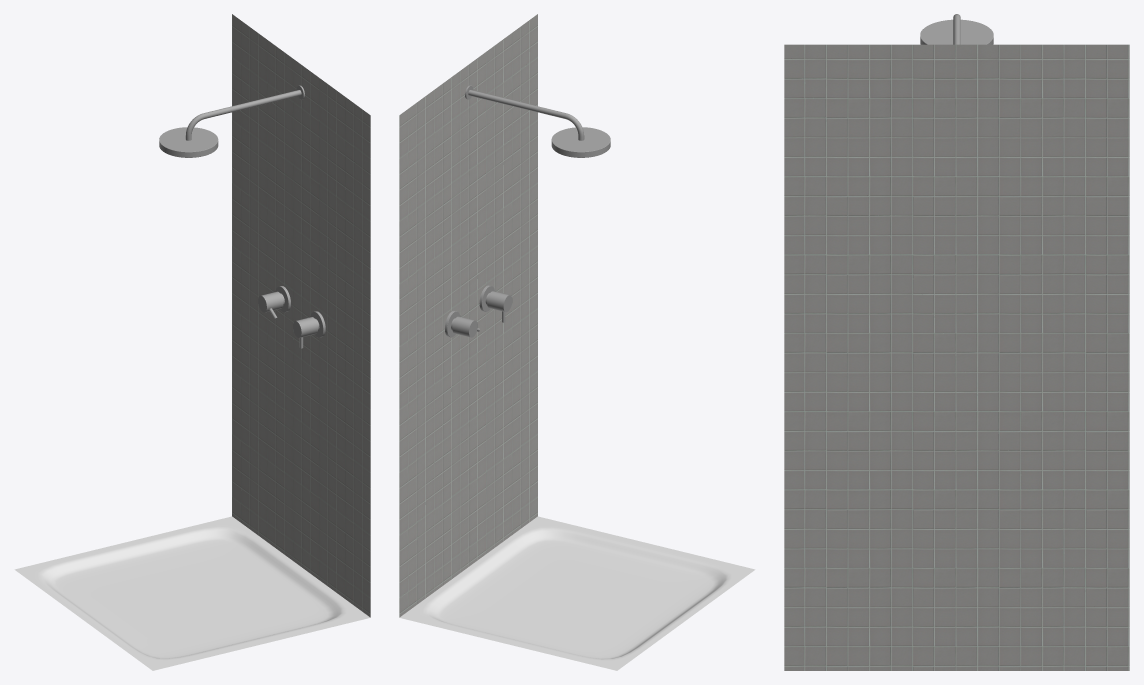
File: Shower.fbx
3 renders of one model, left to right at view 1: azimuth 30°, elevation 25°; view 2: azimuth 150°, elevation 25°; view 3: azimuth 270°, elevation 25°, orthographic. The views are drawn at different scales.
Visible parts, largest first — view 1: Shower, Shower_Base, Shower_Head; view 2: Shower, Shower_Base, Shower_Head; view 3: Shower, Shower_Head.
Boxes of the visible parts, left/top/right/bottom form: Shower: left=232, top=14, right=370, bottom=617; Shower_Base: left=14, top=516, right=370, bottom=670; Shower_Head: left=159, top=85, right=304, bottom=157; Shower: left=399, top=14, right=537, bottom=617; Shower_Base: left=399, top=516, right=755, bottom=670; Shower_Head: left=465, top=85, right=610, bottom=157; Shower: left=784, top=44, right=1129, bottom=670; Shower_Head: left=920, top=14, right=993, bottom=44.
Bounding box in the file's own units: 1.02 × 2.27 × 1.12.
Materials: 4 (2 with a texture image).
